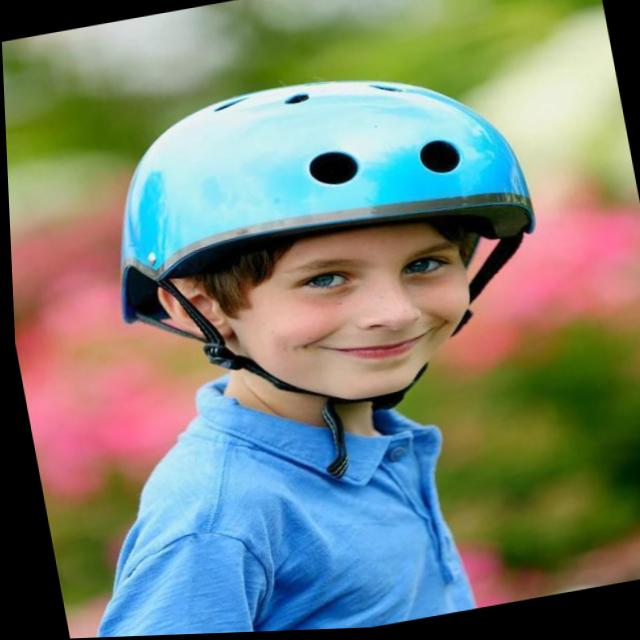helmet: (82, 46, 572, 514)
